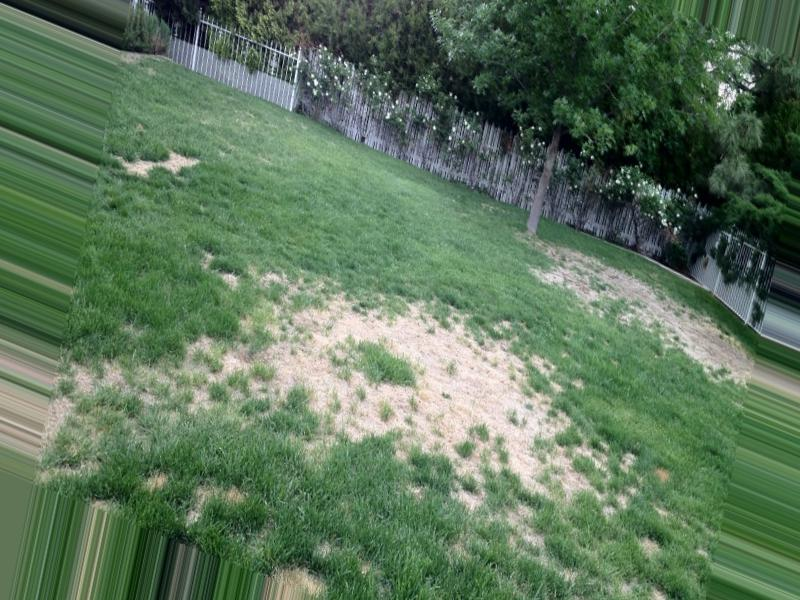patch: (437, 322, 528, 457), (304, 305, 418, 351), (547, 255, 674, 293), (313, 358, 393, 417), (671, 313, 731, 367), (215, 348, 248, 386)
